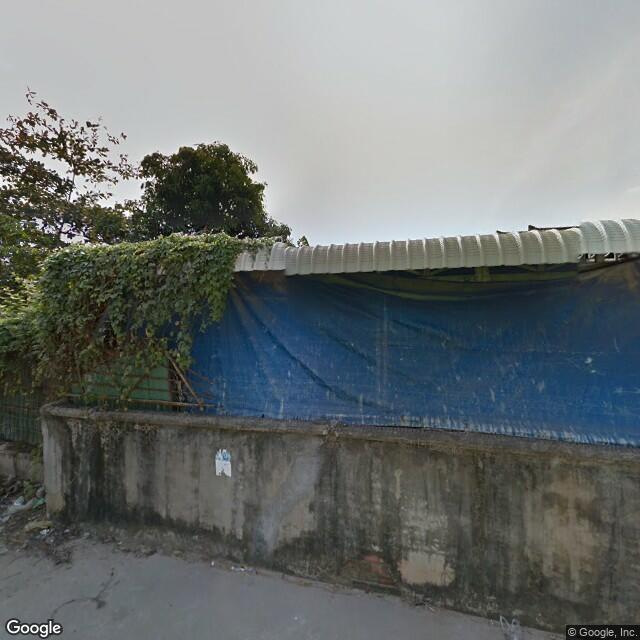litter: (495, 616, 519, 636), (23, 515, 54, 529), (228, 562, 244, 573)
